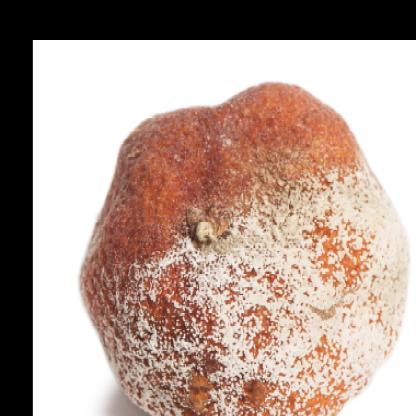rotten: (82, 84, 409, 416)
